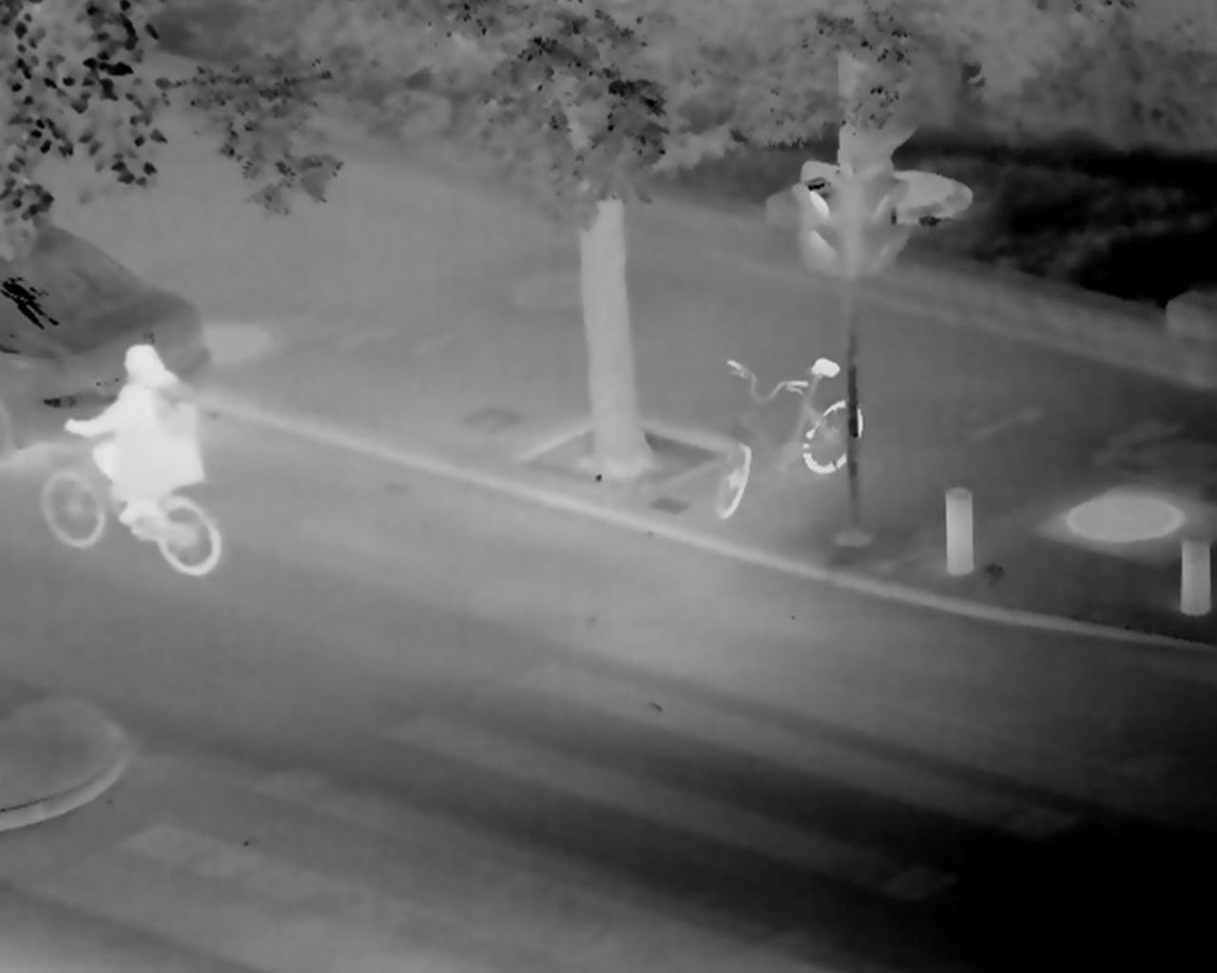person: (64, 342, 205, 541)
